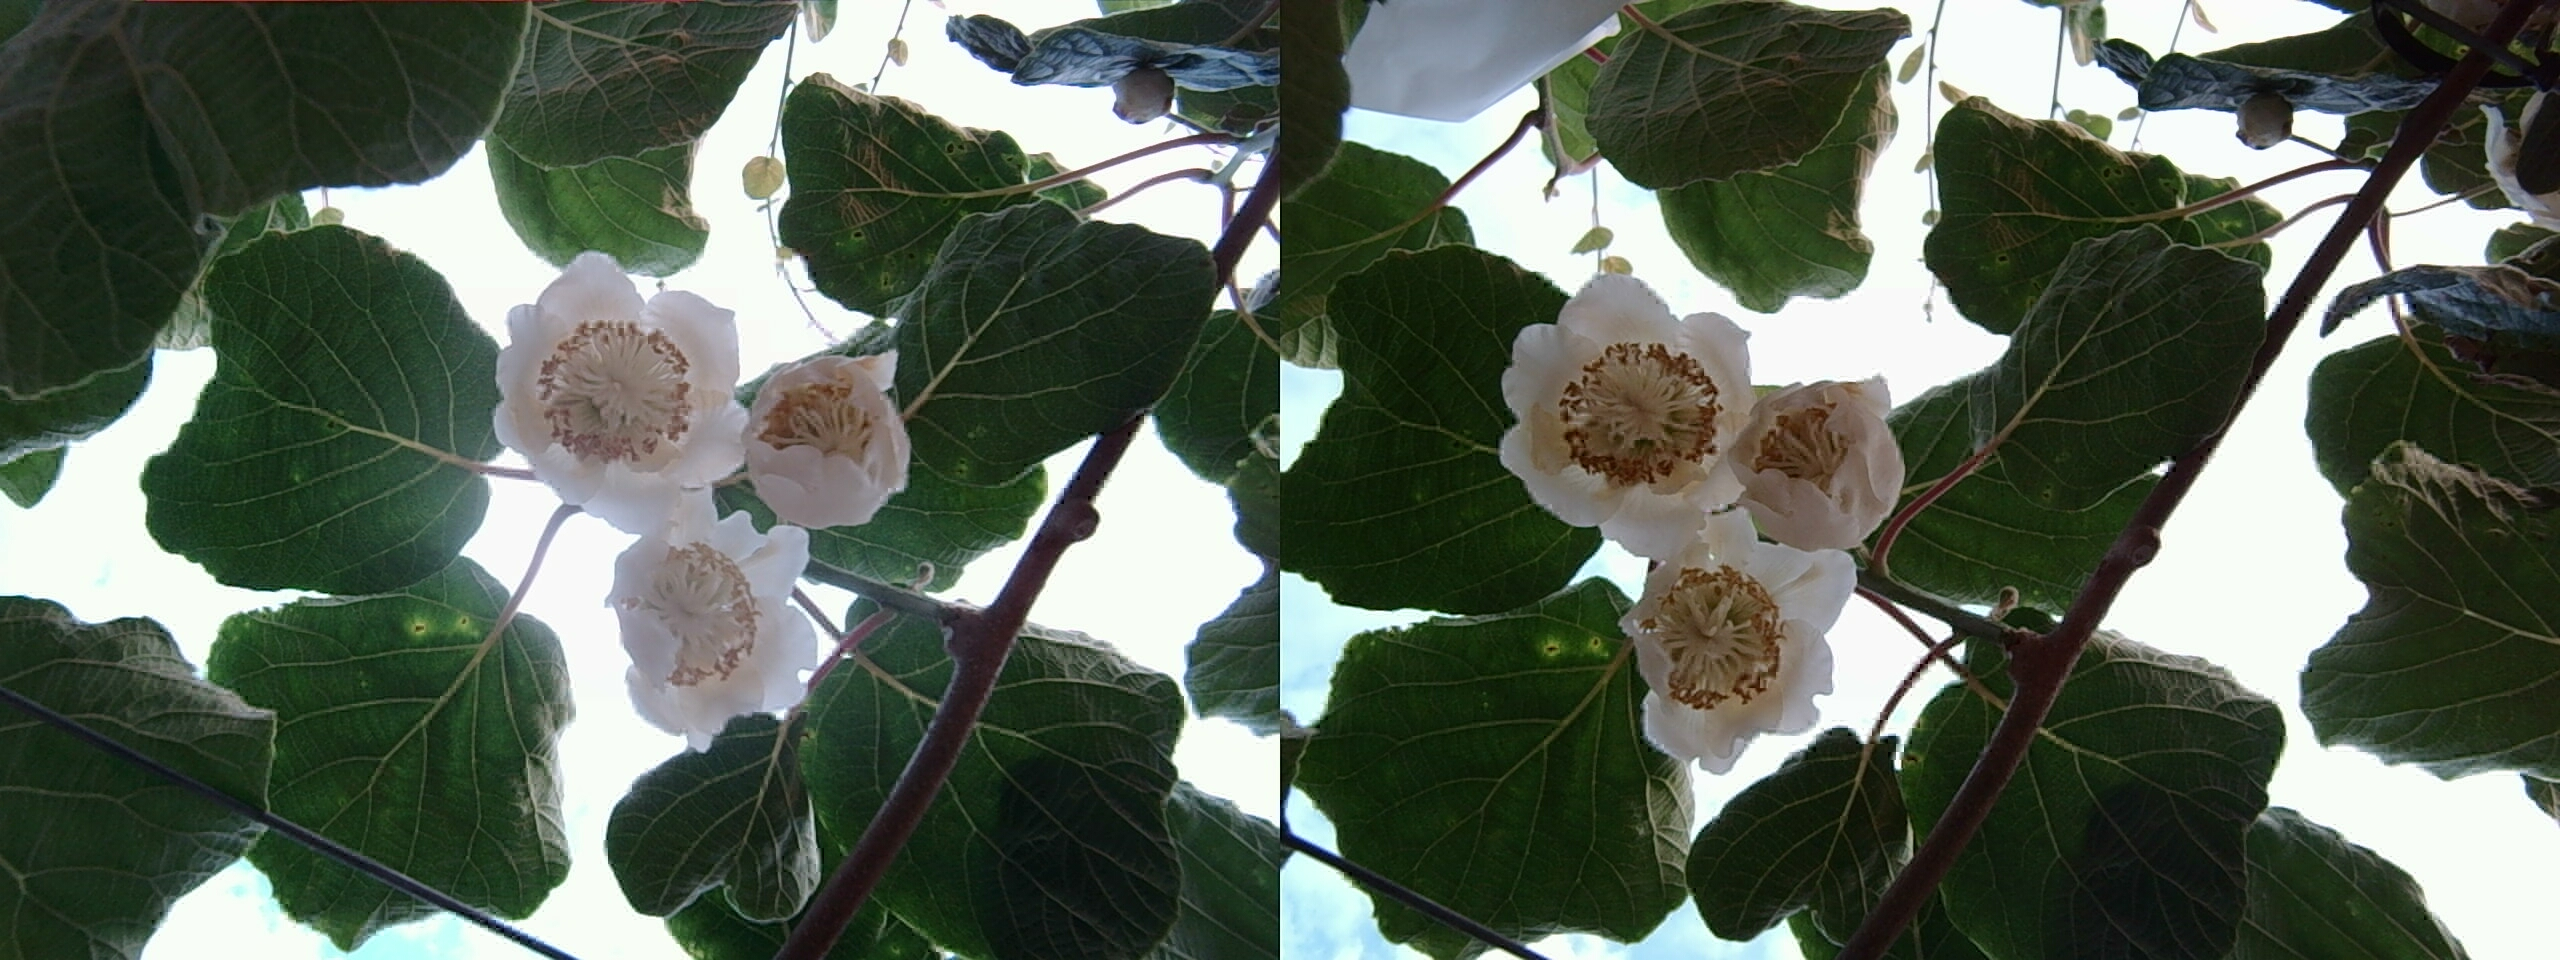flower: (1499, 269, 1752, 545), (491, 251, 736, 509), (1602, 509, 1847, 766), (598, 498, 820, 736), (1716, 367, 1899, 549), (733, 344, 908, 524)
